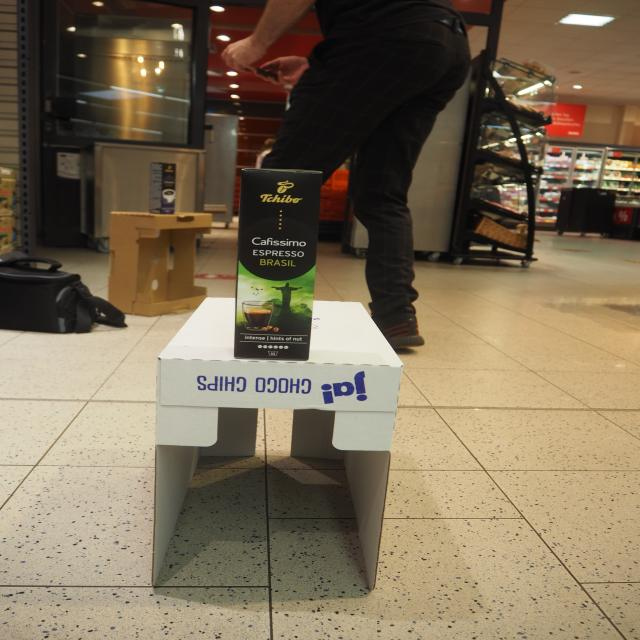Simo Es Brazil: (231, 166, 326, 363)
